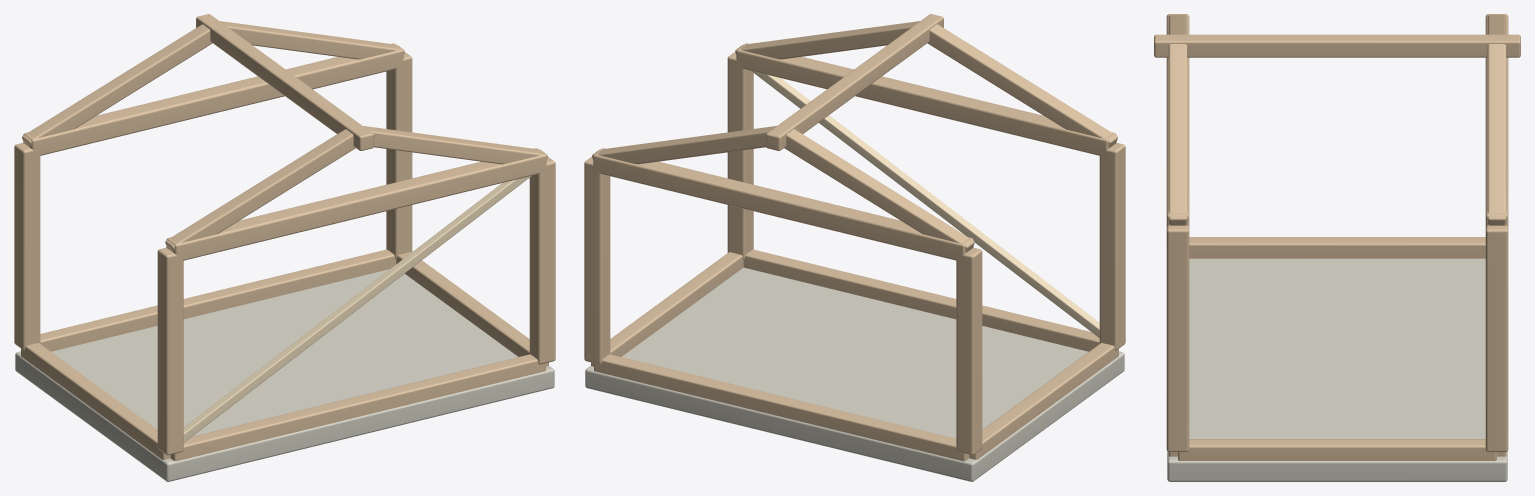
File: cattle-shelter-frame.glb
3 renders of one model, left to right at view 1: azimuth 30°, elevation 25°; view 2: azimuth 150°, elevation 25°; view 3: azimuth 270°, elevation 25°, orthographic. The views are drawn at different scales.
Parts seen in each view (by area): view 1: Rounded stone footing.017, Eave beam.018, Eave beam.019, Sill beam.068, Sill beam.069, Temporary brace.003, Corner post.048, Corner post.049, Corner post.050, Ridge beam.009, Gable rafter.038, Gable rafter.036 (+5 smaller); view 2: Rounded stone footing.017, Eave beam.019, Eave beam.018, Sill beam.069, Sill beam.068, Corner post.049, Corner post.048, Corner post.051, Temporary brace.003, Ridge beam.009, Gable rafter.036, Gable rafter.038 (+5 smaller); view 3: Rounded stone footing.017, Ridge beam.009, Sill beam.071, Sill beam.070, Corner post.050, Corner post.051, Gable rafter.037, Gable rafter.039, Eave beam.018, Eave beam.019, Gable rafter.036, Gable rafter.038.
Boxes of the visible parts, left/top/right/bottom form: Rounded stone footing.017: left=15, top=269, right=554, bottom=481; Eave beam.018: left=166, top=148, right=546, bottom=260; Eave beam.019: left=23, top=43, right=403, bottom=155; Sill beam.068: left=170, top=354, right=545, bottom=461; Sill beam.069: left=40, top=249, right=396, bottom=351; Temporary brace.003: left=183, top=176, right=531, bottom=442; Corner post.048: left=157, top=247, right=183, bottom=455; Corner post.049: left=14, top=143, right=40, bottom=350; Corner post.050: left=529, top=157, right=555, bottom=364; Ridge beam.009: left=196, top=14, right=373, bottom=150; Gable rafter.038: left=22, top=24, right=212, bottom=147; Gable rafter.036: left=165, top=129, right=355, bottom=252; Rounded stone footing.017: left=585, top=267, right=1124, bottom=481; Eave beam.019: left=593, top=148, right=973, bottom=260; Eave beam.018: left=736, top=43, right=1116, bottom=155; Sill beam.069: left=594, top=354, right=969, bottom=461; Sill beam.068: left=743, top=249, right=1099, bottom=351; Corner post.049: left=956, top=247, right=982, bottom=455; Corner post.048: left=1099, top=143, right=1125, bottom=350; Corner post.051: left=584, top=157, right=610, bottom=364; Temporary brace.003: left=751, top=71, right=1099, bottom=337; Ridge beam.009: left=766, top=14, right=943, bottom=150; Gable rafter.036: left=927, top=24, right=1117, bottom=147; Gable rafter.038: left=784, top=129, right=974, bottom=252; Rounded stone footing.017: left=1167, top=258, right=1507, bottom=481; Ridge beam.009: left=1154, top=34, right=1520, bottom=57; Sill beam.071: left=1178, top=439, right=1496, bottom=460; Sill beam.070: left=1189, top=237, right=1485, bottom=258; Corner post.050: left=1166, top=225, right=1189, bottom=452; Corner post.051: left=1485, top=225, right=1508, bottom=452; Gable rafter.037: left=1168, top=44, right=1187, bottom=225; Gable rafter.039: left=1487, top=44, right=1506, bottom=225; Eave beam.018: left=1166, top=14, right=1189, bottom=226; Eave beam.019: left=1485, top=14, right=1508, bottom=226; Gable rafter.036: left=1168, top=14, right=1187, bottom=34; Gable rafter.038: left=1487, top=14, right=1506, bottom=34.
Size of the model in its own units: 3.77 by 2.82 by 2.76.
